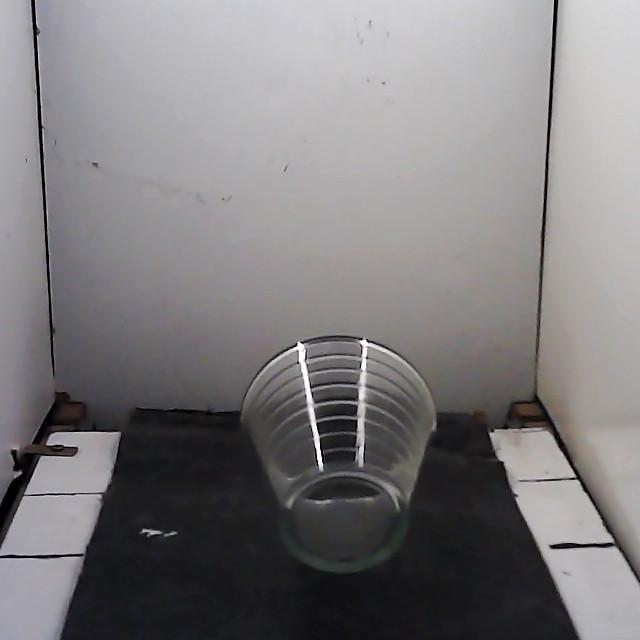vidro: (241, 336, 436, 572)
